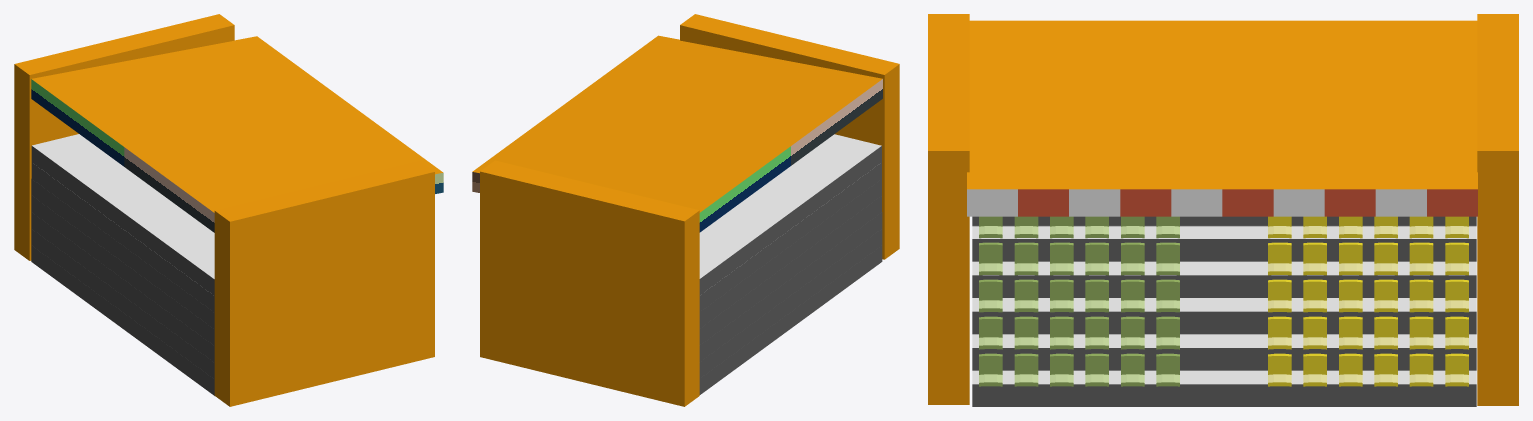
Rendered from Paredes.fbx.
3 renders of one model, left to right at view 1: azimuth 30°, elevation 25°; view 2: azimuth 150°, elevation 25°; view 3: azimuth 270°, elevation 25°, orthographic. The views are drawn at different scales.
Parts seen in each view (by area): view 1: Cube.003, Gradas; view 2: Cube.003, Gradas; view 3: Cube.003, Gradas, Sillas, Sillas.001.
Part boxes in pixels (x1=…): Cube.003: x1=14, y1=14, x2=443, y2=406; Gradas: x1=31, y1=134, x2=214, y2=395; Cube.003: x1=472, y1=14, x2=899, y2=406; Gradas: x1=699, y1=134, x2=882, y2=394; Cube.003: x1=928, y1=14, x2=1518, y2=405; Gradas: x1=972, y1=216, x2=1476, y2=406; Sillas: x1=979, y1=216, x2=1179, y2=386; Sillas.001: x1=1268, y1=216, x2=1468, y2=386.
Bounding box in the file's own units: 1437 × 1126 × 2356.
3 materials, 3 textured.
